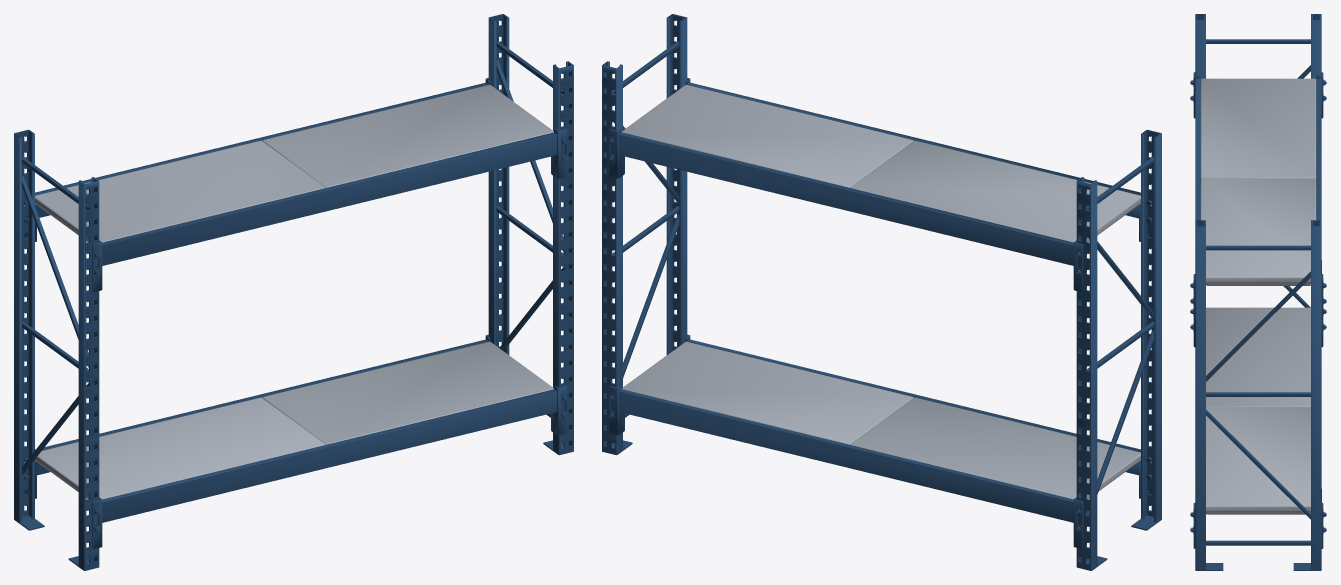
The picture shows the model from 3 angles, left to right: view 1: azimuth 30°, elevation 25°; view 2: azimuth 150°, elevation 25°; view 3: azimuth 270°, elevation 25°; orthographic projection. The views are drawn at different scales.
Parts seen in each view (by area): view 1: part_ccca70fad3f958f6; view 2: part_ccca70fad3f958f6; view 3: part_ccca70fad3f958f6.
Boxes of the visible parts, <box> form: part_ccca70fad3f958f6: <box>14,14,573,570</box>; part_ccca70fad3f958f6: <box>602,14,1161,570</box>; part_ccca70fad3f958f6: <box>1190,14,1326,570</box>.
Bounding box in the file's own units: 4 × 3.01 × 1.08.
